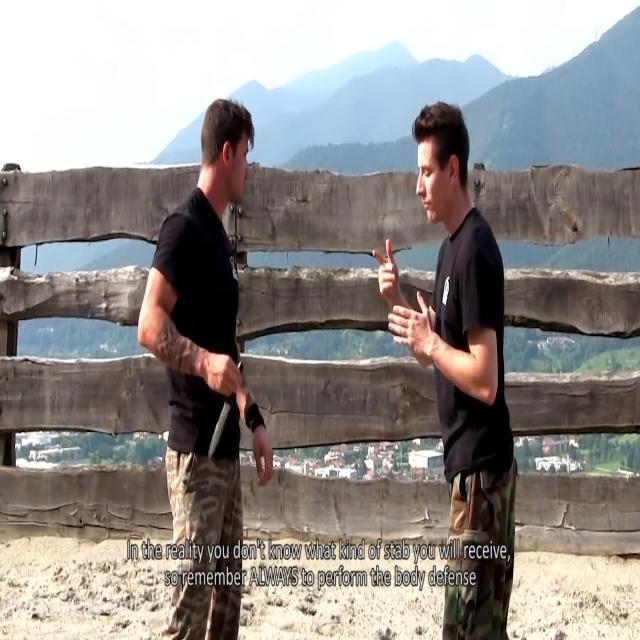knife: (207, 397, 231, 465)
